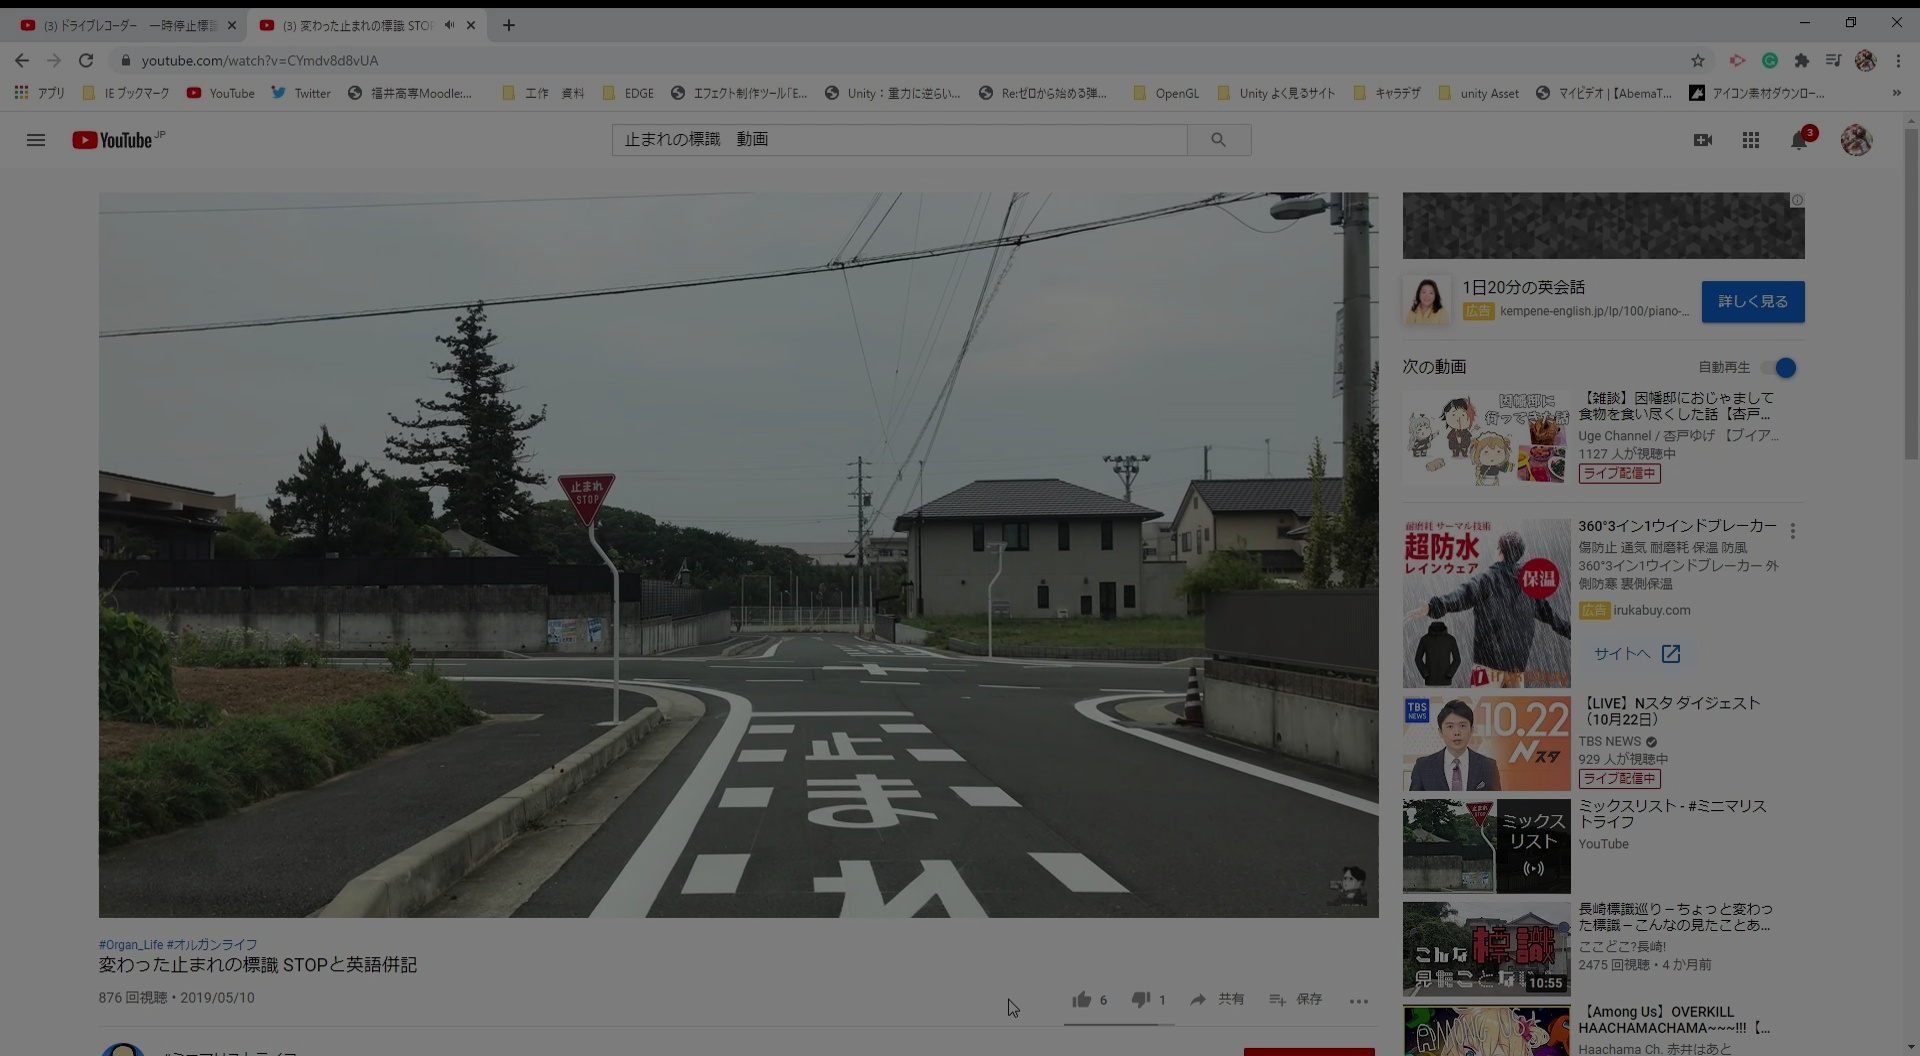Regulatory_sign_triangle: (556, 468, 624, 533)
